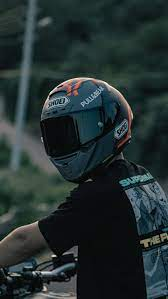helmets: (32, 70, 138, 184)
